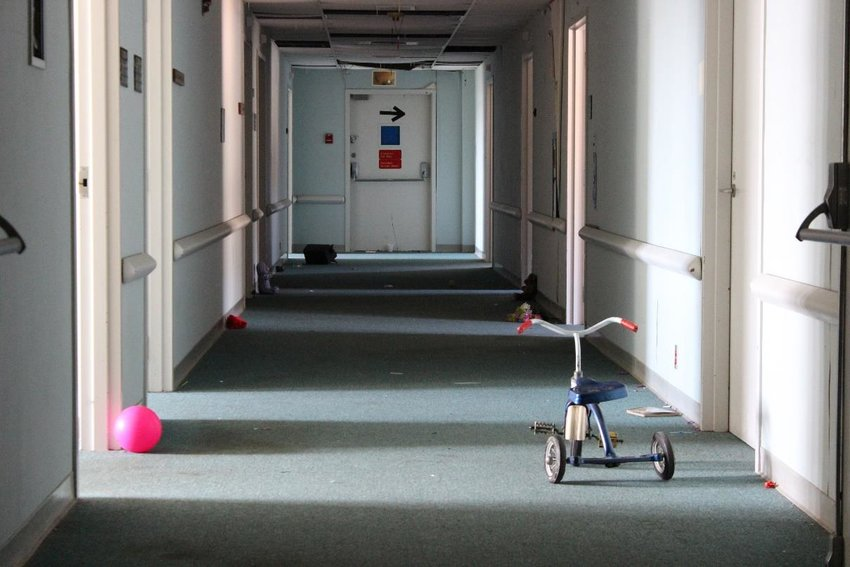hallway_assist_bar: (575, 224, 698, 281), (170, 210, 245, 258), (120, 250, 158, 281), (487, 195, 521, 227), (529, 211, 560, 242), (294, 193, 345, 209), (272, 194, 290, 219), (252, 207, 265, 228)
handle: (720, 184, 739, 199)
push_latch: (797, 157, 850, 253), (350, 163, 433, 185), (1, 214, 28, 264)
